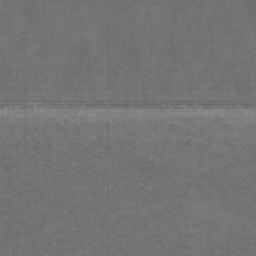Welding line: (0, 101, 256, 109)
